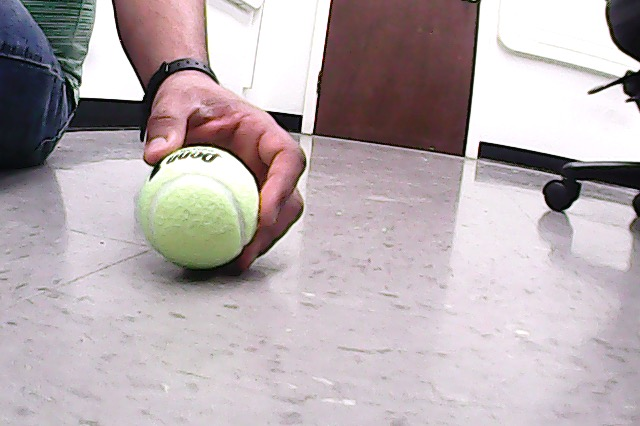ball: (140, 147, 260, 269)
